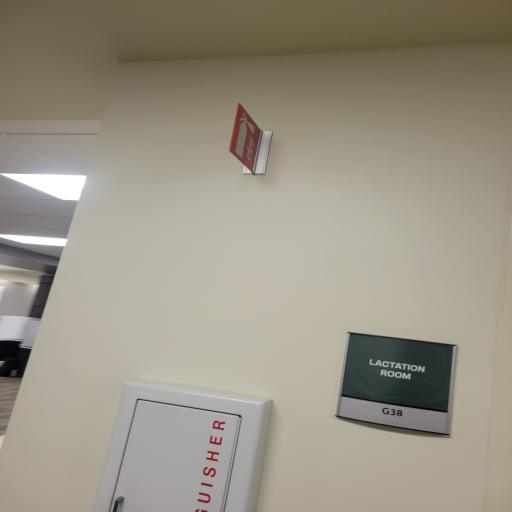fire extinguisher: (92, 361, 292, 512)
fire extinguisher sign: (221, 98, 280, 180)
